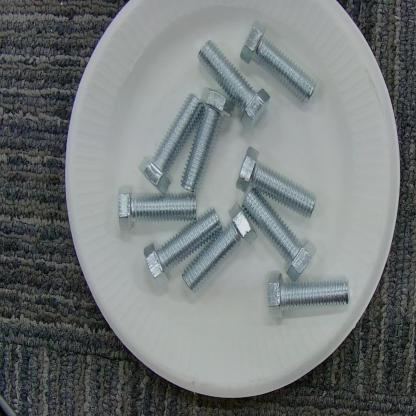FOD: (116, 13, 354, 314)
